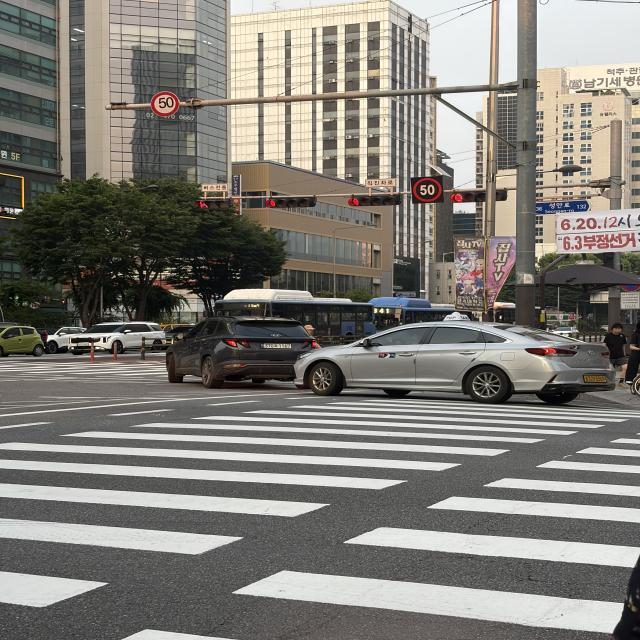car: (284, 306, 624, 419), (151, 305, 336, 393)
